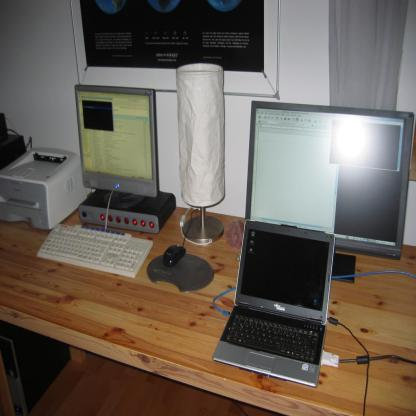board: (214, 218, 336, 387)
